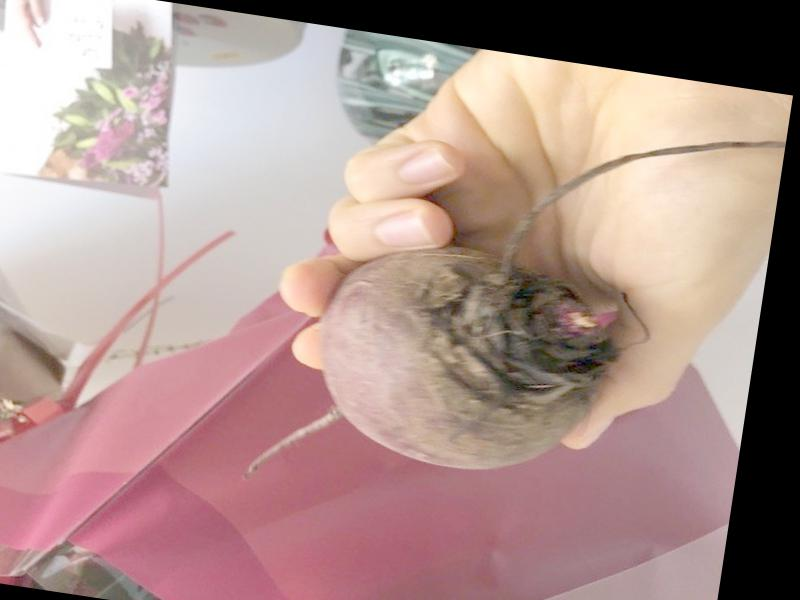Beet: (241, 68, 780, 548)
